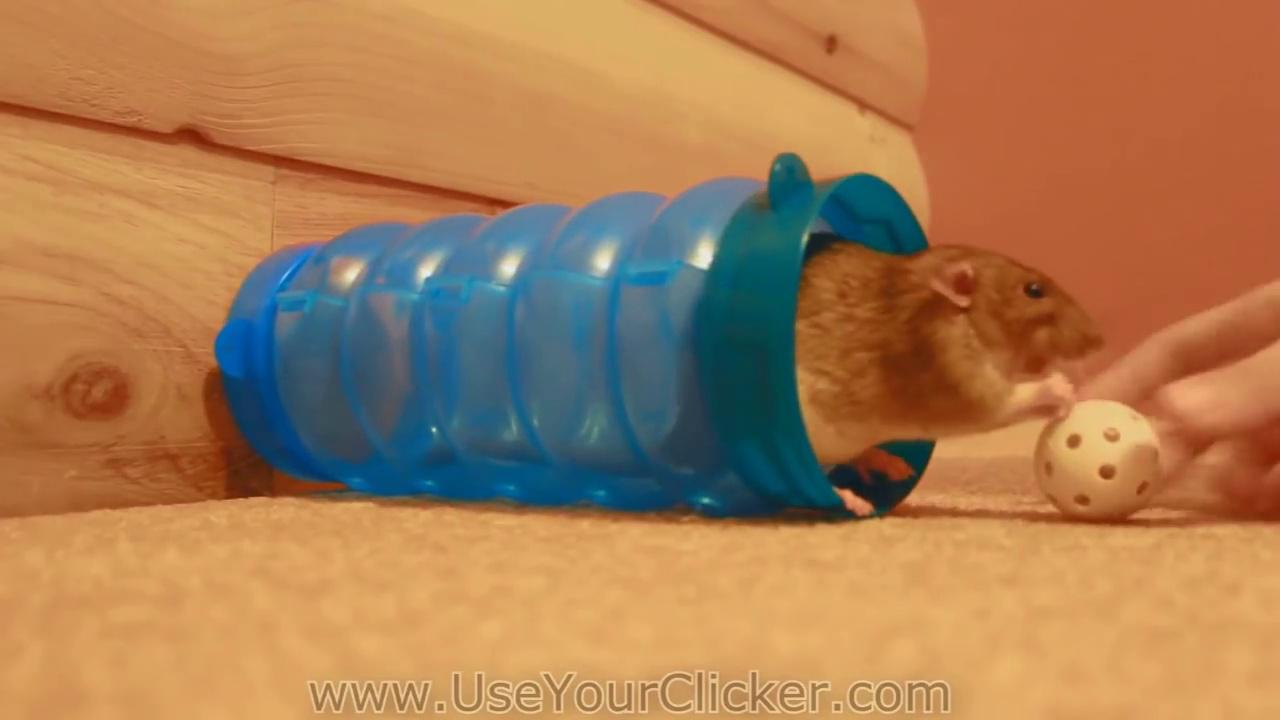rat: (789, 235, 1109, 521)
